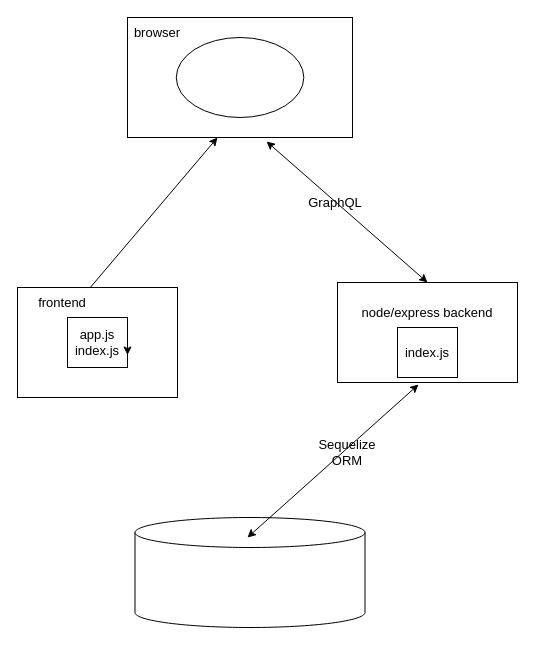
Some shapes in this 535 by 645 pixel diagram are drawn without their labels. The centre of each missing label's shape, as x and y in pixels:
"postgresql" goes at (249,572).
"react app" goes at (239,77).
